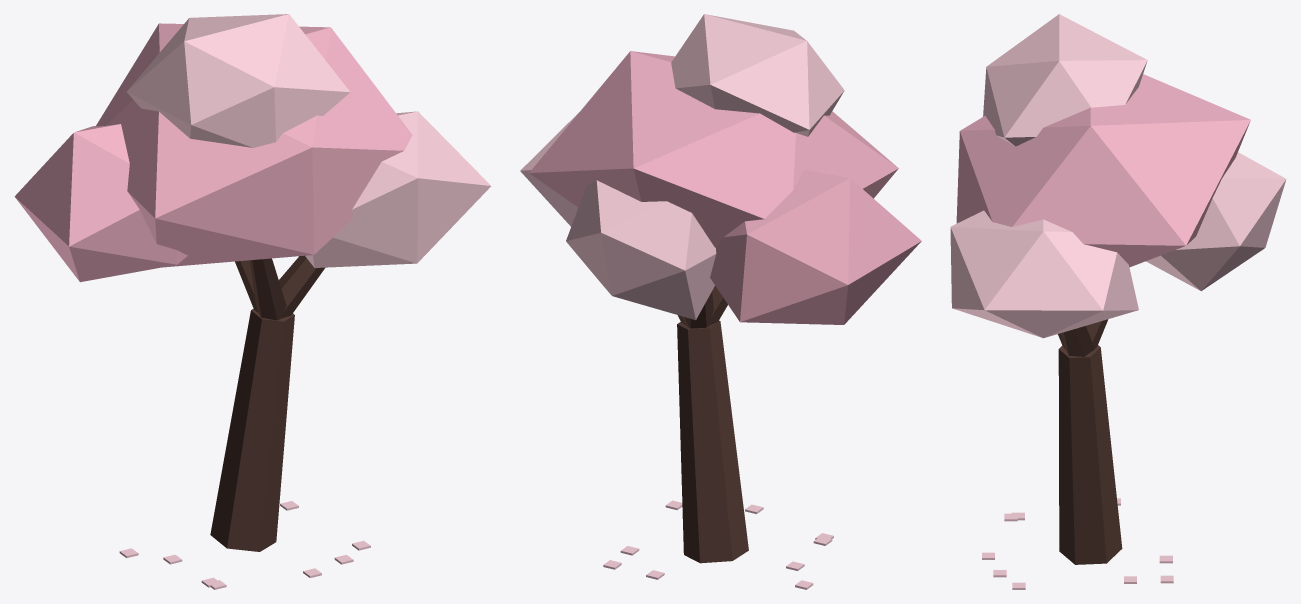
Rendered from jap-sakura.gltf.
3 views of the same model, side by side, from view 1: azimuth 30°, elevation 25°; view 2: azimuth 150°, elevation 25°; view 3: azimuth 270°, elevation 25° (orthographic). The views are drawn at different scales.
Visible parts, largest first — view 1: jap-sakura; view 2: jap-sakura; view 3: jap-sakura.
Boxes of the visible parts, box(x1,y1,x2,y2) form: jap-sakura: box(14, 14, 490, 589); jap-sakura: box(520, 14, 921, 589); jap-sakura: box(950, 14, 1286, 589).
Size of the model in its own units: 1.61 by 2.12 by 1.28.
